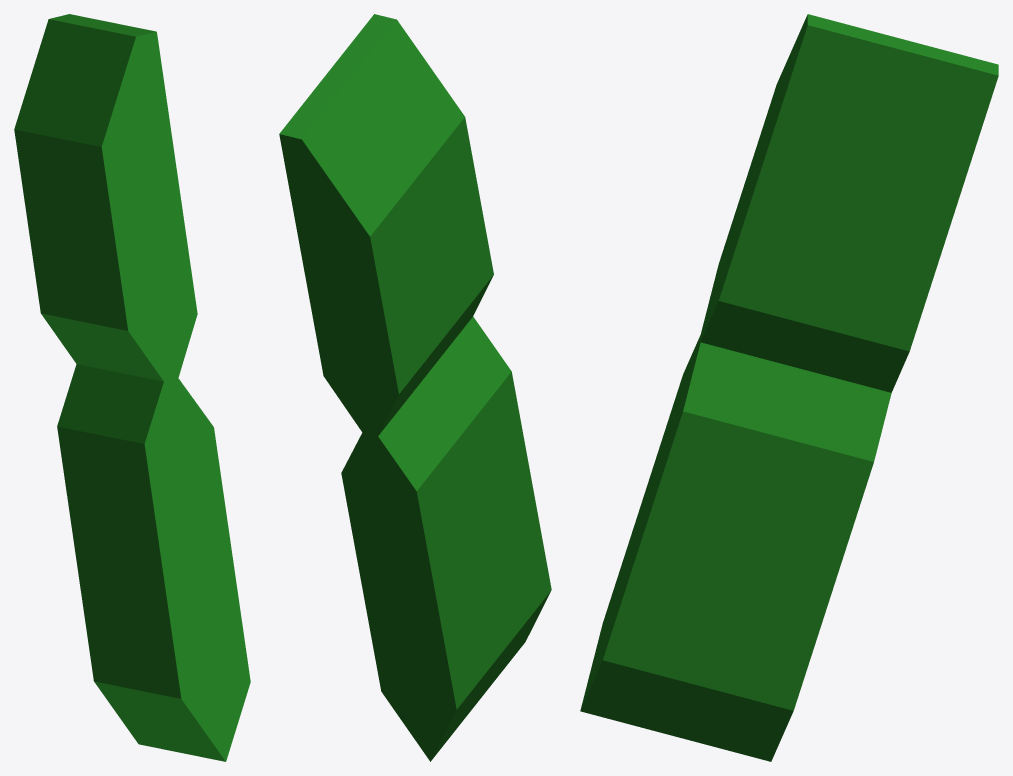
Rendered from original-102.obj.
3 renders of one model, left to right at view 1: azimuth 30°, elevation 25°; view 2: azimuth 150°, elevation 25°; view 3: azimuth 270°, elevation 25°, orthographic. The views are drawn at different scales.
Parts seen in each view (by area): view 1: #ID600; view 2: #ID600; view 3: #ID600.
Boxes of the visible parts, x1=… form: #ID600: x1=14, y1=14, x2=250, y2=761; #ID600: x1=279, y1=14, x2=551, y2=761; #ID600: x1=580, y1=14, x2=998, y2=761.
Bounding box in the file's own units: 0.00262 × 0.0249 × 0.0125.
